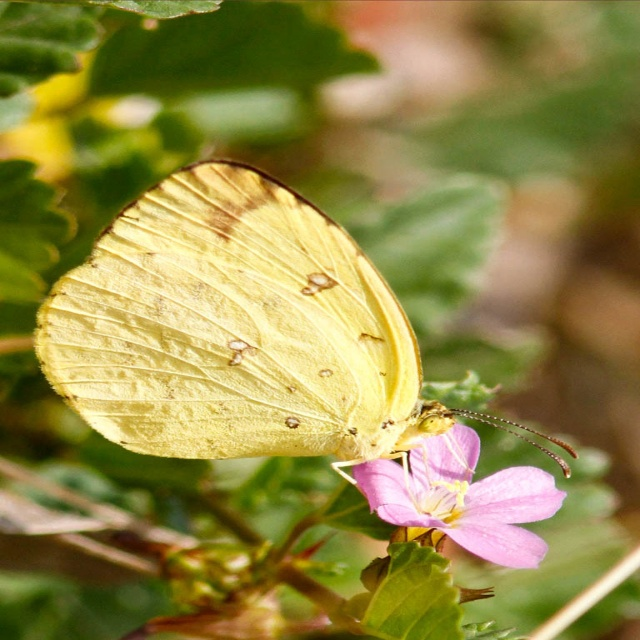Butterfly: (32, 158, 580, 517)
